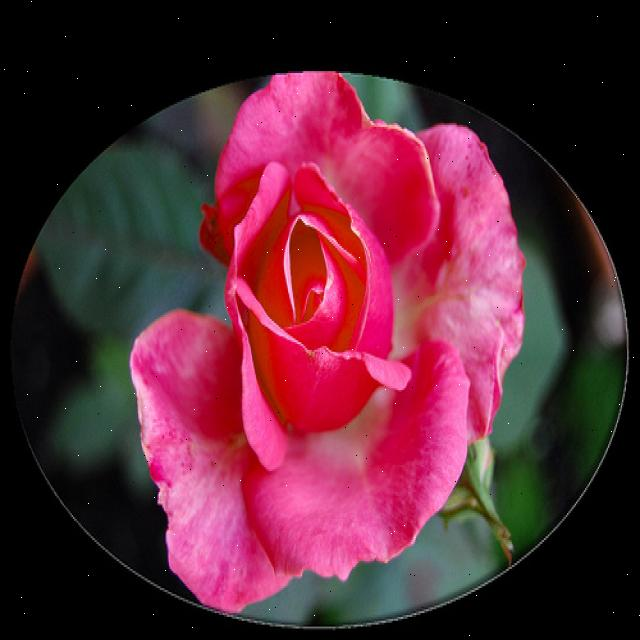Bloomed: (127, 67, 526, 613)
